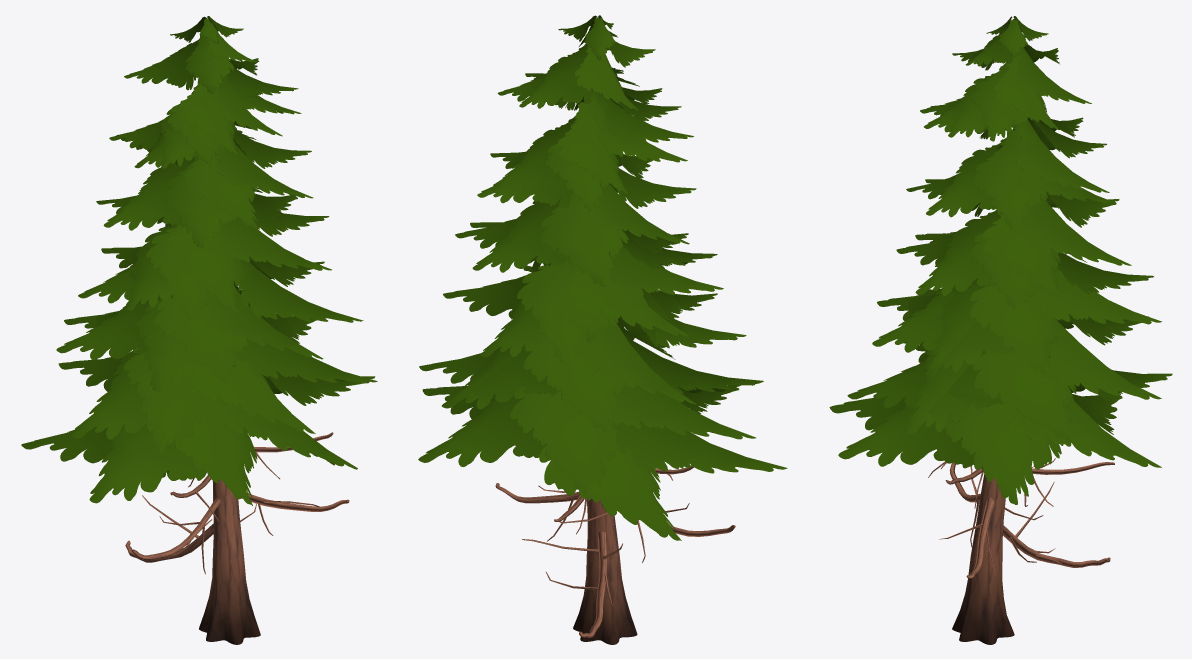
Rendered from pine_4.glb.
The picture shows the model from 3 angles, left to right: view 1: azimuth 30°, elevation 25°; view 2: azimuth 150°, elevation 25°; view 3: azimuth 270°, elevation 25°; orthographic projection. The views are drawn at different scales.
Parts seen in each view (by area): view 1: Pine_4; view 2: Pine_4; view 3: Pine_4.
Boxes of the visible parts, x1,y1,x2,y2 form: Pine_4: (21,16,377,644); Pine_4: (418,15,787,644); Pine_4: (829,16,1172,644).
Size of the model in its own units: 5.8 by 10.24 by 5.37.
2 materials, 2 textured.
